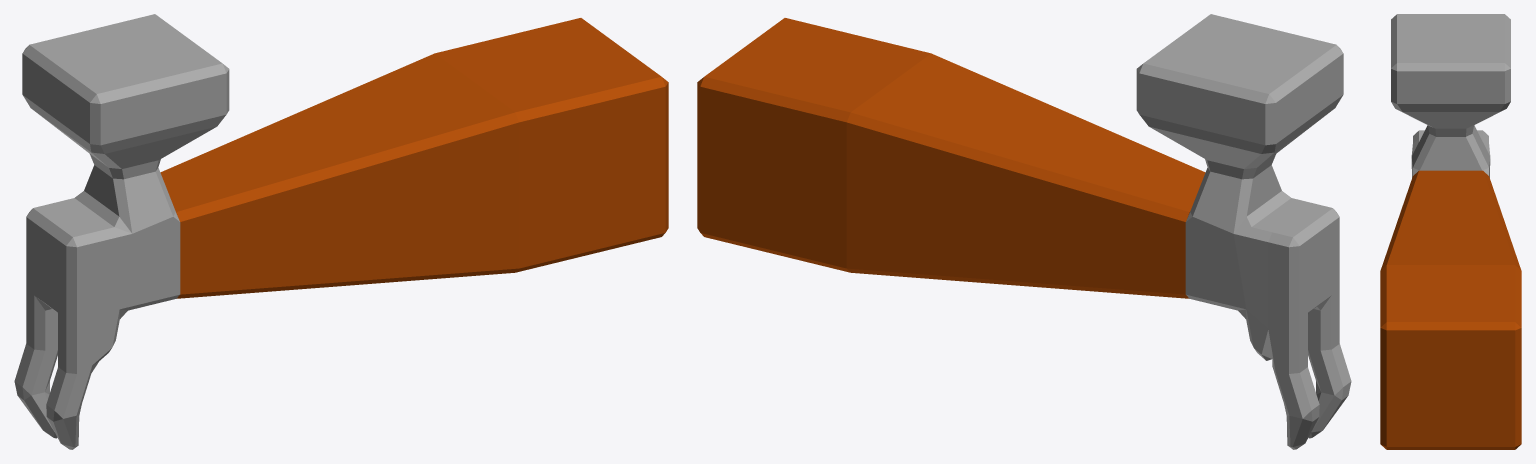
The model's file is molotok.fbx.
The picture shows the model from 3 angles, left to right: view 1: azimuth 30°, elevation 25°; view 2: azimuth 150°, elevation 25°; view 3: azimuth 270°, elevation 25°; orthographic projection. The views are drawn at different scales.
Visible parts, largest first — view 1: Cube.001; view 2: Cube.001; view 3: Cube.001.
Part boxes in pixels (left/top/right/bottom): Cube.001: left=14, top=14, right=668, bottom=449; Cube.001: left=697, top=14, right=1351, bottom=449; Cube.001: left=1380, top=14, right=1521, bottom=449.
Bounding box in the file's own units: 68.82 × 41.56 × 17.76.
